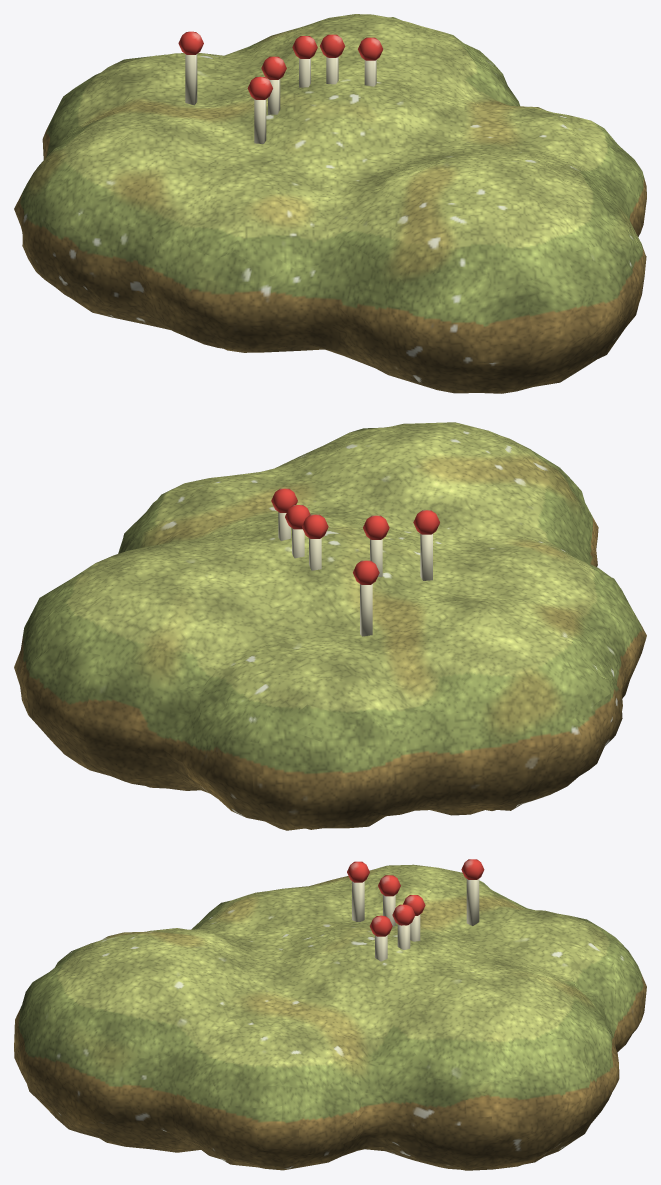
Rendered from moss_a.glb.
3 views of the same model, one above another, from view 1: azimuth 30°, elevation 25°; view 2: azimuth 150°, elevation 25°; view 3: azimuth 270°, elevation 25° (orthographic). The views are drawn at different scales.
Visible parts, largest first — view 1: Moss; view 2: Moss; view 3: Moss.
Part boxes in pixels (left/top/right/bottom): Moss: left=14, top=14, right=646, bottom=393; Moss: left=14, top=422, right=646, bottom=830; Moss: left=14, top=859, right=646, bottom=1170.
Size of the model in its own units: 1.03 by 0.4616 by 1.2.
1 material, 1 textured.
